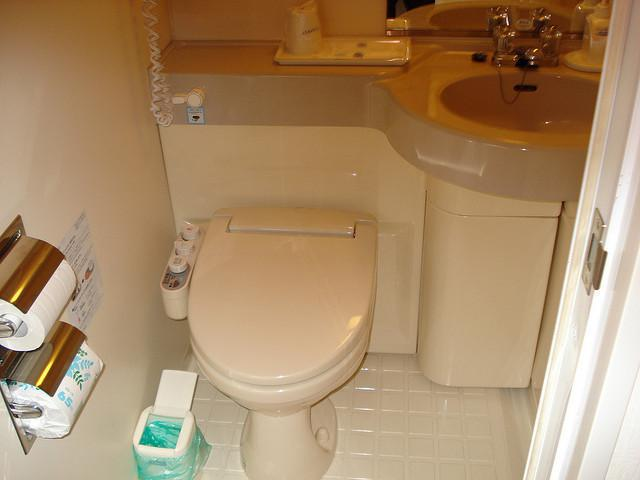Bote de Basura: (412, 173, 549, 395), (122, 371, 215, 479)
Lavamanos: (382, 8, 639, 205)
